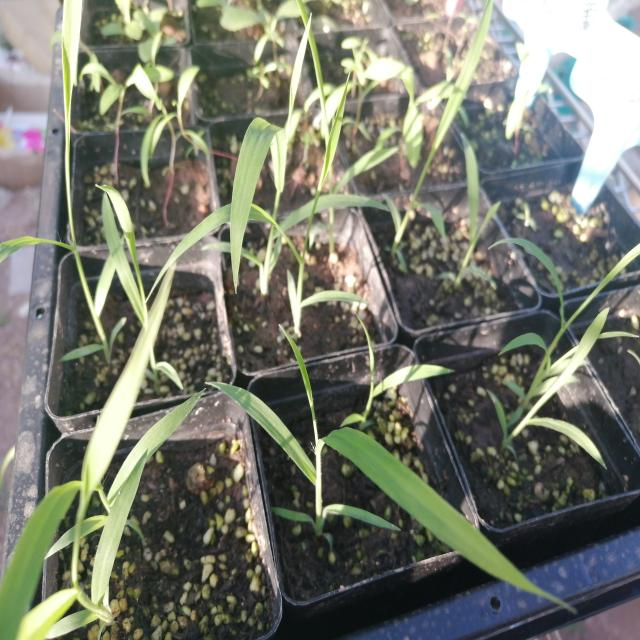crabgrass: (236, 329, 521, 594), (194, 92, 394, 324), (15, 166, 214, 379)
